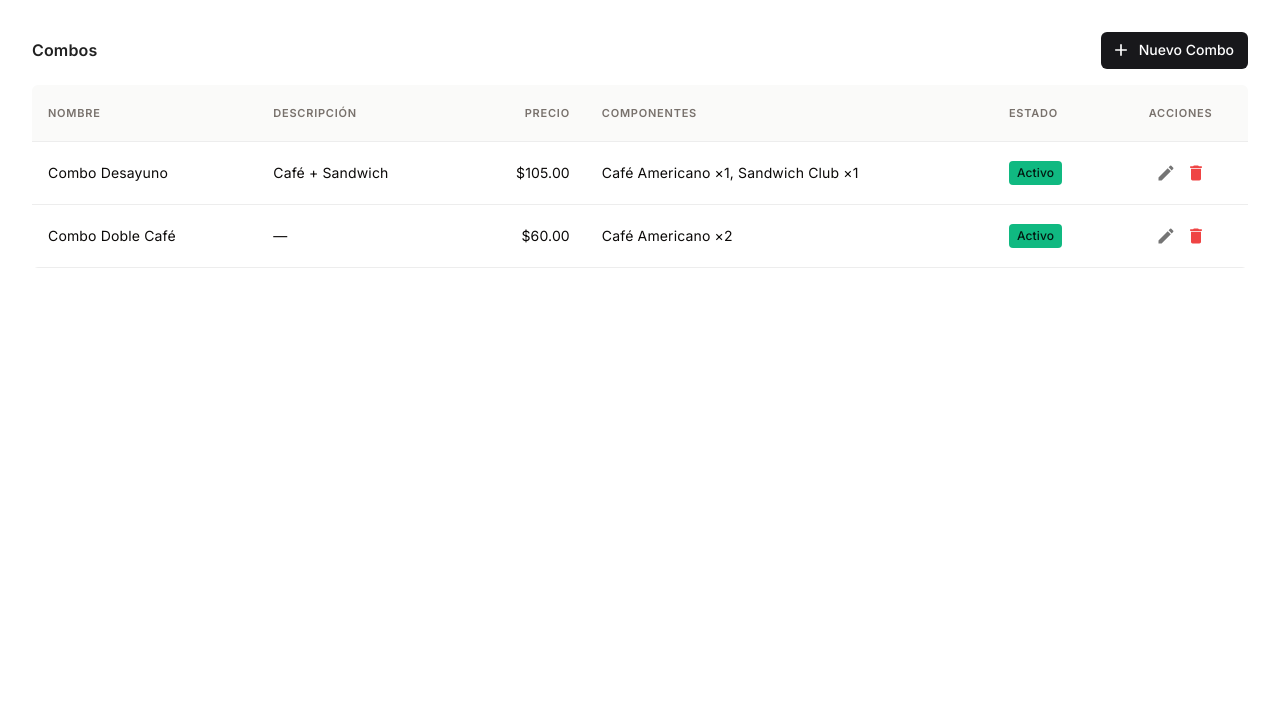
ComboList › shows delete confirmation when delete is clicked
The image size is (1280, 720).
Expected: the text "Combo Desayuno" is shown, [32,141,257,204]
Click the button named "eliminar Combo Desayuno" at [1196, 172], box [1181,158,1211,188]
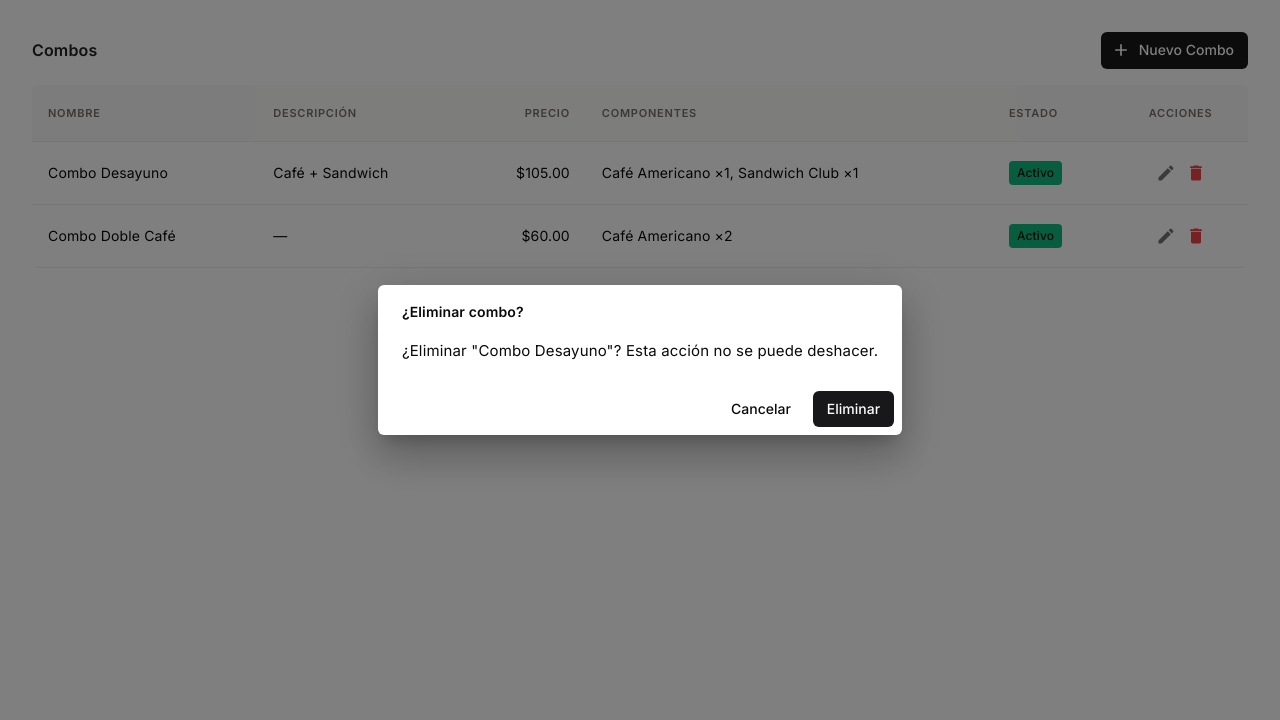
Expected: the dialog is shown, [378,284,902,435]
Expected: the heading "¿Eliminar combo?" is shown, [402,302,524,320]
